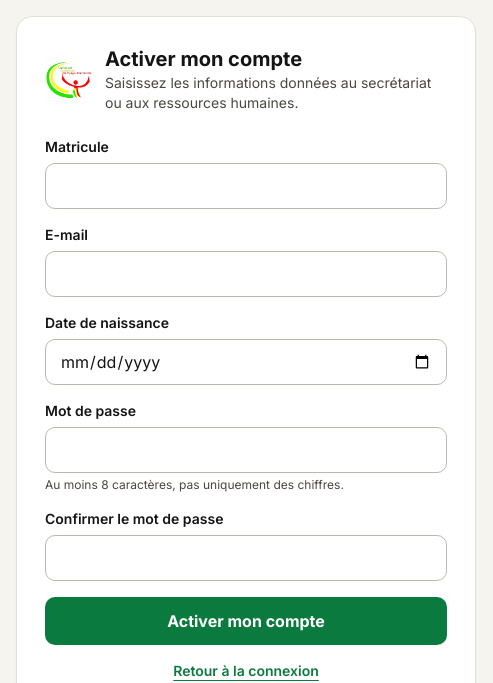
Activation du compte › les deux mots de passe doivent être identiques
Type "UCCB26MOUDI00001" into the field labelled "Matricule" at (246, 186), box [45,163,447,209]
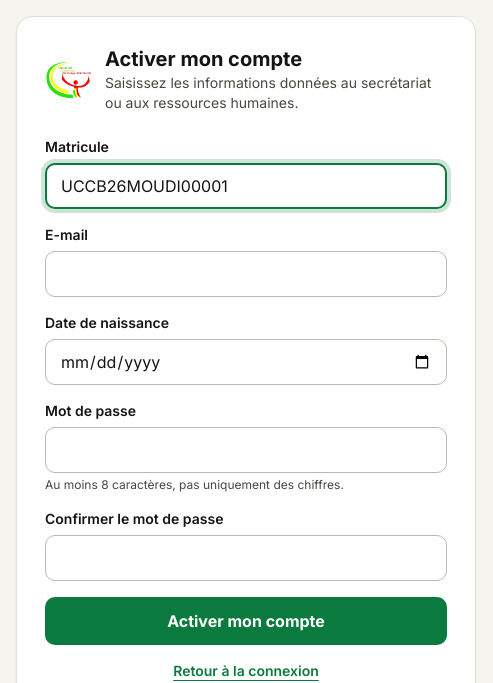
Type "divine@example.org" into the field labelled "E-mail" at (246, 274), box [45,251,447,297]
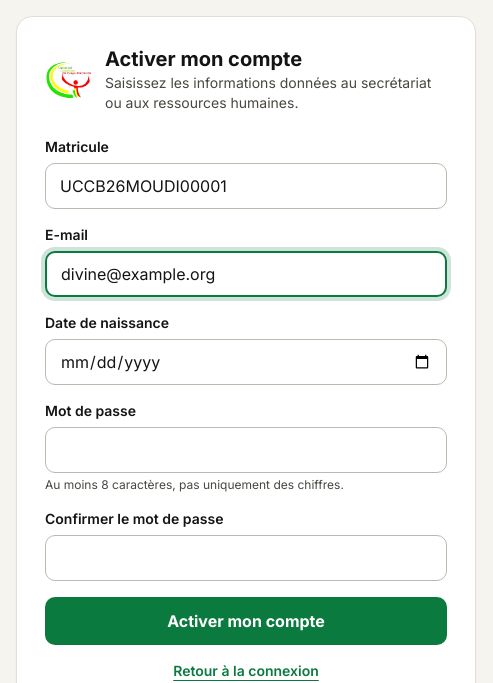
Type "2006-03-14" into the date field labelled "Date de naissance" at (246, 362), box [45,339,447,385]
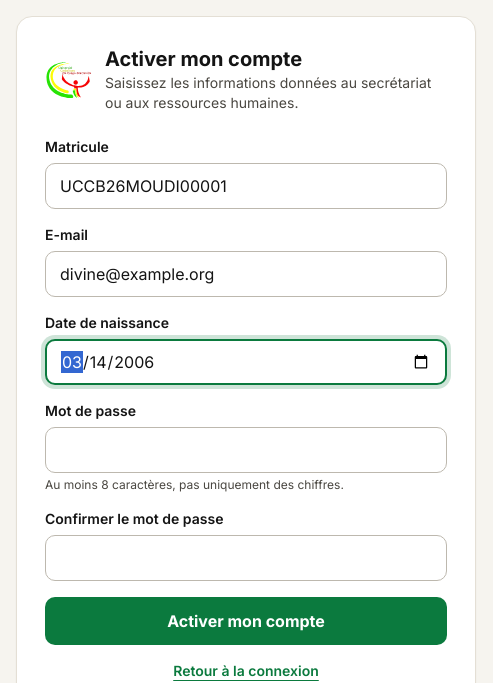
Type "Etudiant-UCCB-2026!" into the password field labelled "Mot de passe" at (246, 450), box [45,427,447,473]
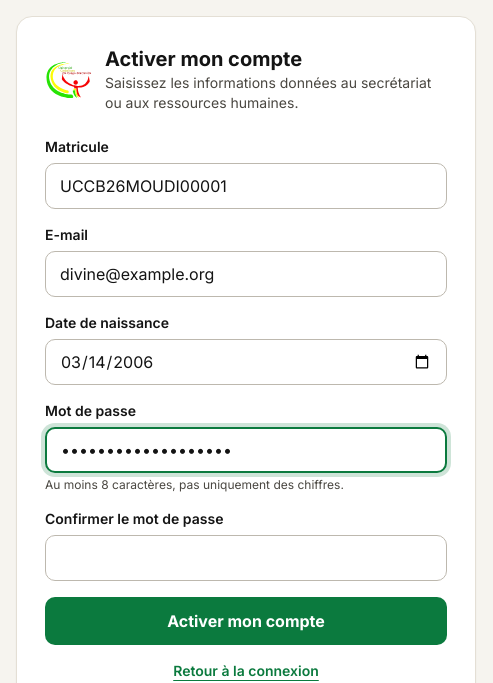
Type "autre-chose-2026" into the password field labelled "Confirmer le mot de passe" at (246, 558), box [45,535,447,581]
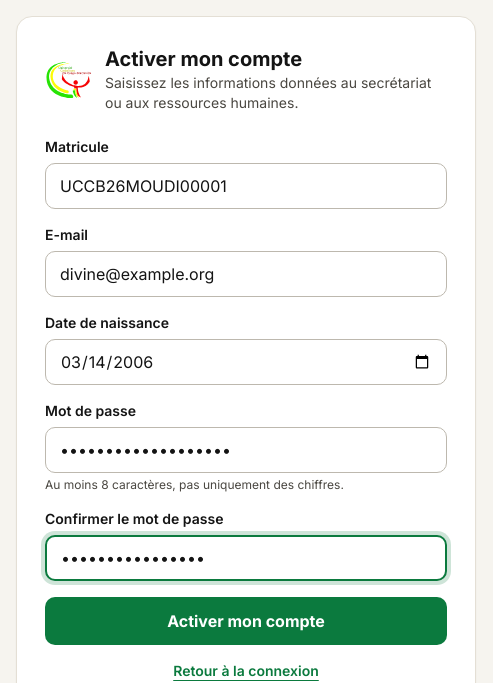
Click the button "Activer mon compte" at (246, 621), box [45,597,447,645]
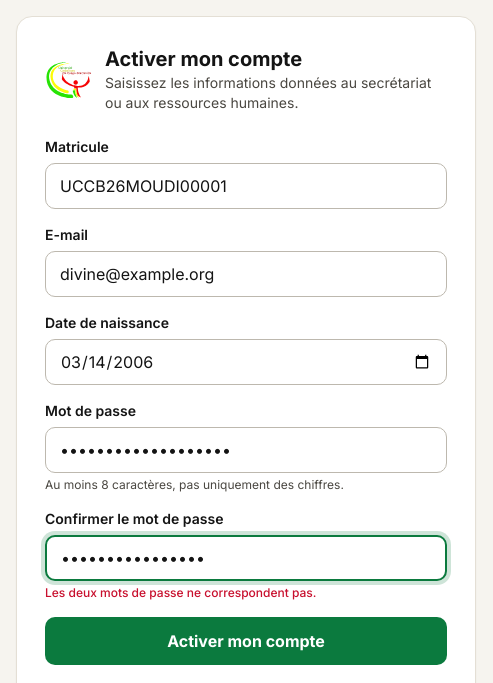
Check: the text "Les deux mots de passe ne correspondent pas." is shown, box [45,585,316,600]
